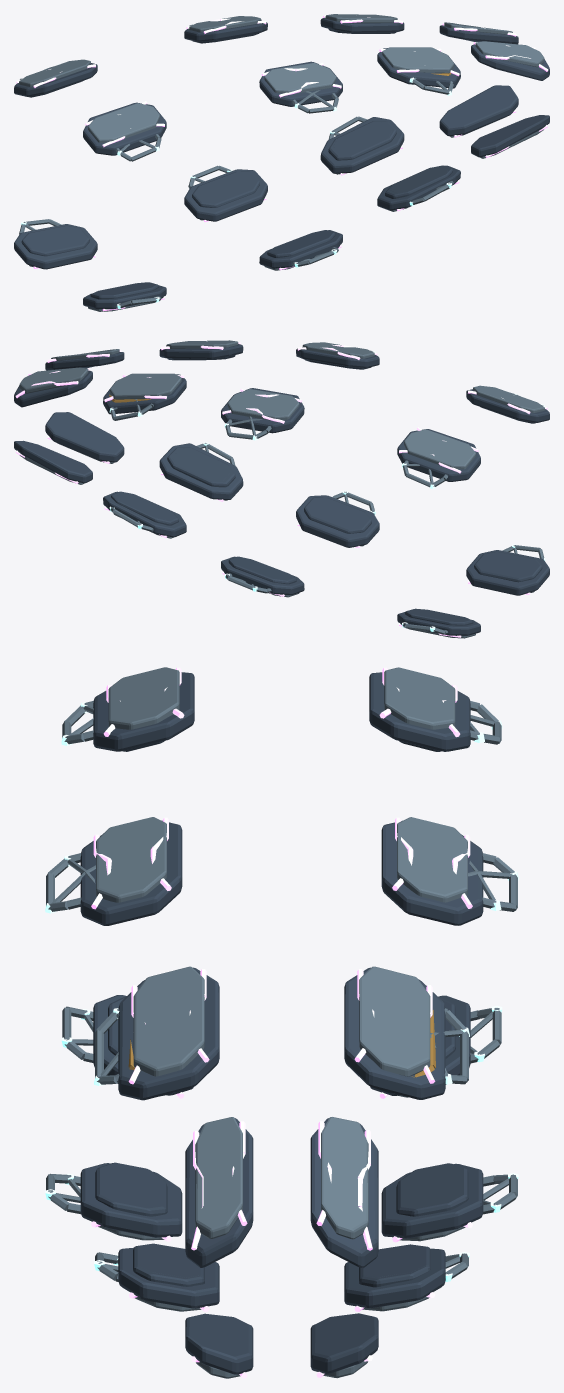
Rendered from plating.glb.
The picture shows the model from 3 angles, top to bottom: view 1: azimuth 30°, elevation 25°; view 2: azimuth 150°, elevation 25°; view 3: azimuth 270°, elevation 25°; orthographic projection. The views are drawn at different scales.
Visible parts, largest first — view 1: p_heavy Fitting gunmetal, p_heavy Brushed fitting edges, p_aegis Fitting gunmetal, p_light Brushed fitting edges, p_reactive Fitting gunmetal, p_heavy p_heavy emitter; view 2: p_heavy Fitting gunmetal, p_heavy Brushed fitting edges, p_aegis Fitting gunmetal, p_light Brushed fitting edges, p_reactive Fitting gunmetal, p_heavy p_heavy emitter; view 3: p_heavy Fitting gunmetal, p_heavy Brushed fitting edges, p_light Brushed fitting edges, p_aegis Fitting gunmetal, p_heavy p_heavy emitter, p_reactive Fitting gunmetal, p_light p_light emitter.
Part boxes in pixels (bbox=[...]): p_heavy Fitting gunmetal: bbox=[14, 17, 549, 309]; p_heavy Brushed fitting edges: bbox=[19, 14, 544, 311]; p_aegis Fitting gunmetal: bbox=[21, 28, 452, 299]; p_light Brushed fitting edges: bbox=[19, 24, 453, 308]; p_reactive Fitting gunmetal: bbox=[49, 122, 447, 297]; p_heavy p_heavy emitter: bbox=[16, 15, 548, 311]; p_heavy Fitting gunmetal: bbox=[14, 344, 549, 635]; p_heavy Brushed fitting edges: bbox=[19, 340, 544, 638]; p_aegis Fitting gunmetal: bbox=[111, 355, 542, 625]; p_light Brushed fitting edges: bbox=[110, 350, 544, 634]; p_reactive Fitting gunmetal: bbox=[116, 448, 514, 623]; p_heavy p_heavy emitter: bbox=[15, 341, 547, 637]; p_heavy Fitting gunmetal: bbox=[80, 672, 483, 1374]; p_heavy Brushed fitting edges: bbox=[96, 667, 467, 1378]; p_light Brushed fitting edges: bbox=[46, 700, 517, 1281]; p_aegis Fitting gunmetal: bbox=[95, 741, 468, 1287]; p_heavy p_heavy emitter: bbox=[91, 667, 472, 1378]; p_reactive Fitting gunmetal: bbox=[133, 1245, 430, 1278]; p_light p_light emitter: bbox=[45, 702, 518, 1281].
Bounding box in the file's own units: 41.2 × 16.44 × 17.74.
